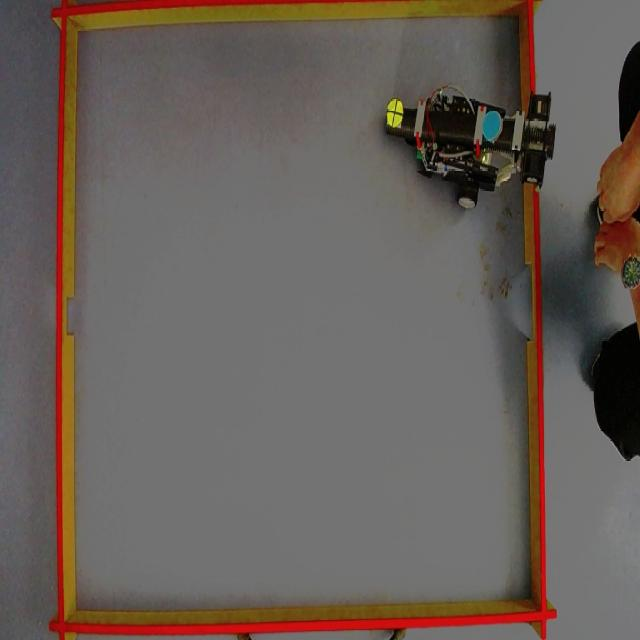robot: (375, 84, 564, 210)
robot-front: (386, 97, 404, 130)
robot-rear: (477, 109, 502, 143)
